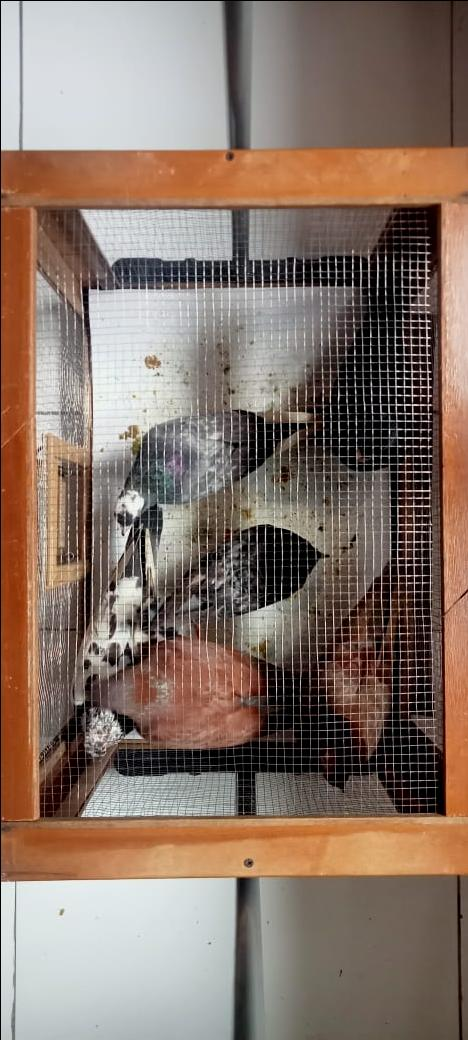Merpati: (111, 406, 328, 537), (295, 566, 401, 792), (89, 637, 302, 749), (70, 508, 163, 763), (138, 524, 328, 637), (324, 280, 419, 471)
